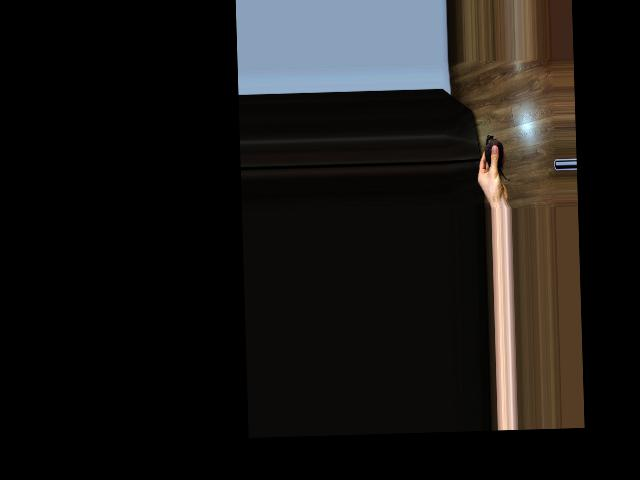beet: (484, 133, 510, 180)
